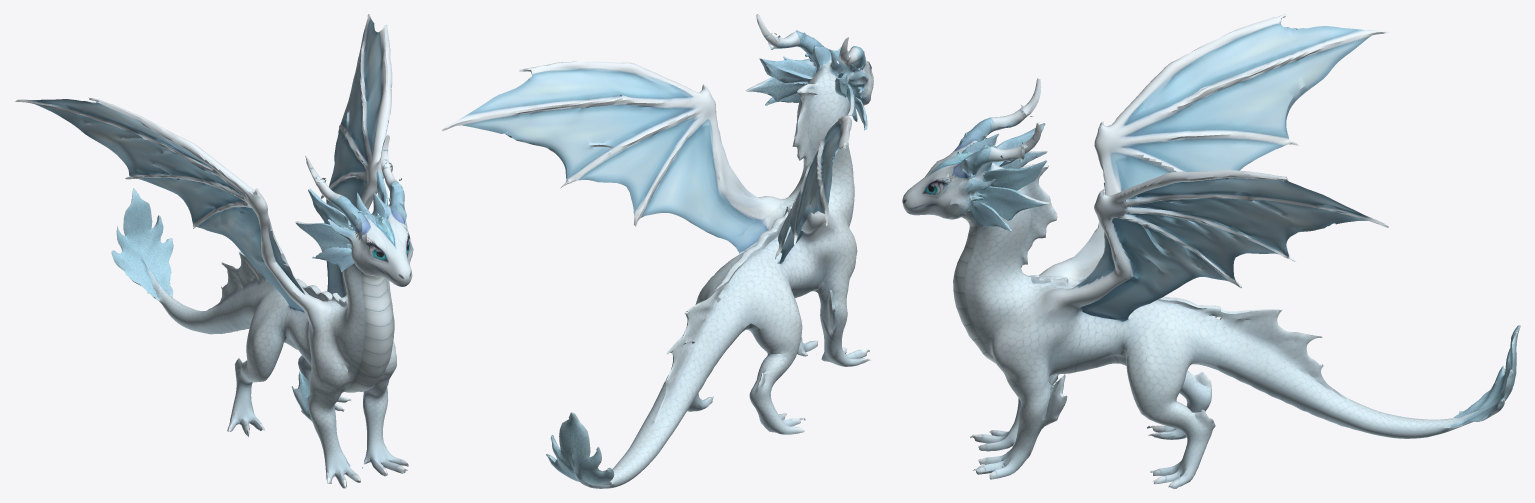
File: snow_dragon.glb
3 views of the same model, side by side, from view 1: azimuth 30°, elevation 25°; view 2: azimuth 150°, elevation 25°; view 3: azimuth 270°, elevation 25° (orthographic). The views are drawn at different scales.
Bounding box in the file's own units: 1.41 × 1.22 × 1.89.
Materials: 1 (1 with a texture image).
